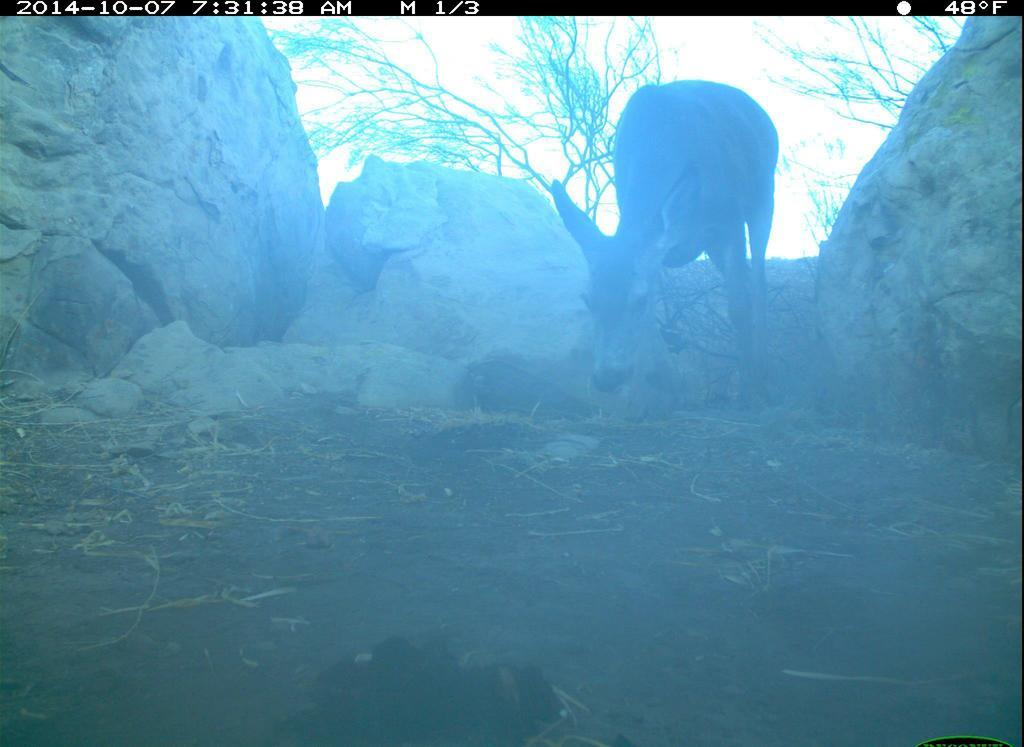deer: (548, 76, 788, 428)
